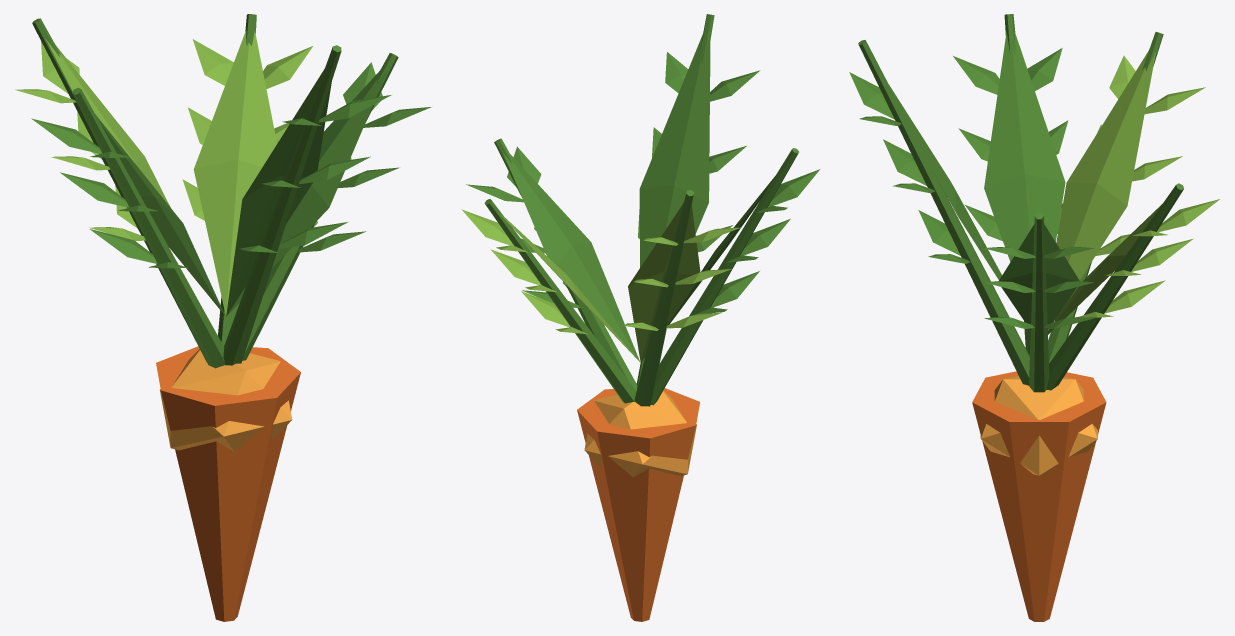
File: carrot_stage_1.glb
3 renders of one model, left to right at view 1: azimuth 30°, elevation 25°; view 2: azimuth 150°, elevation 25°; view 3: azimuth 270°, elevation 25°, orthographic. The views are drawn at different scales.
Parts seen in each view (by area): view 1: carrot_stage_1_Mesh; view 2: carrot_stage_1_Mesh; view 3: carrot_stage_1_Mesh.
Part boxes in pixels (bbox=[...]): carrot_stage_1_Mesh: bbox=[15, 14, 431, 621]; carrot_stage_1_Mesh: bbox=[461, 14, 820, 621]; carrot_stage_1_Mesh: bbox=[849, 14, 1219, 621].
Size of the model in its own units: 0.2474 by 0.4203 by 0.2426.
